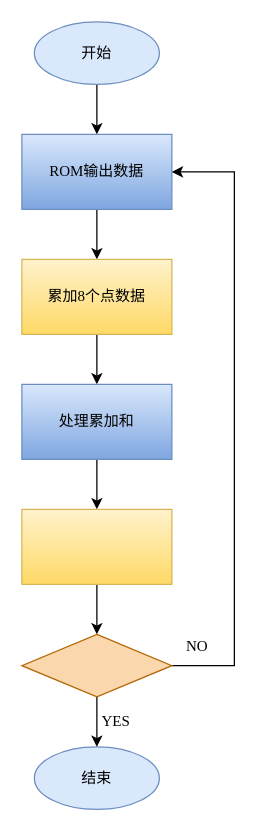
This 266x831 diagram has some shape labels left out. Here are the shapes that lost their labels. From the top down, the box of each, then its label:
(21, 508, 172, 584): 计算平均值
(21, 633, 172, 697): IF N>=1000
